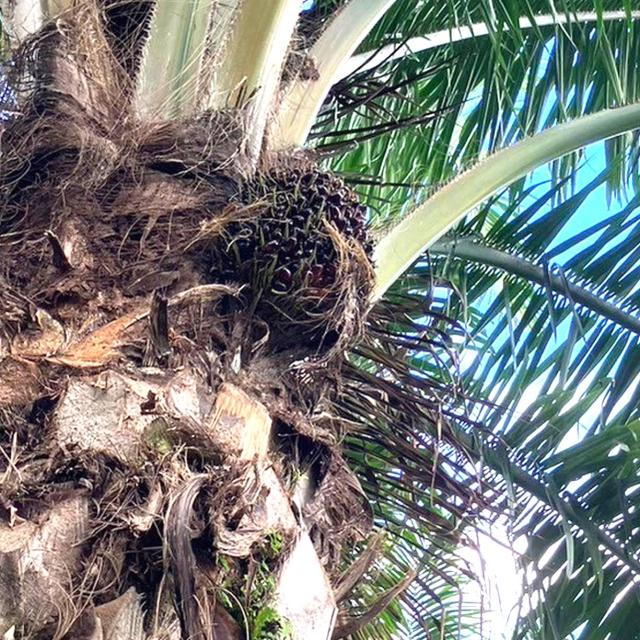ripe: (193, 143, 393, 375)
